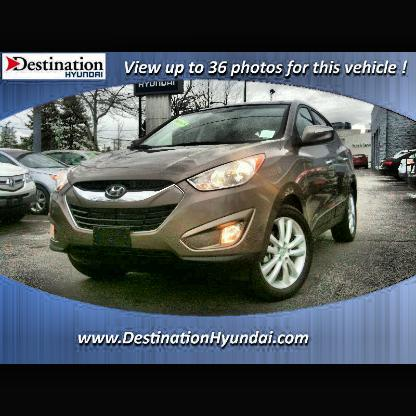Hyundai Tucson SUV 2012: (53, 102, 360, 301)
